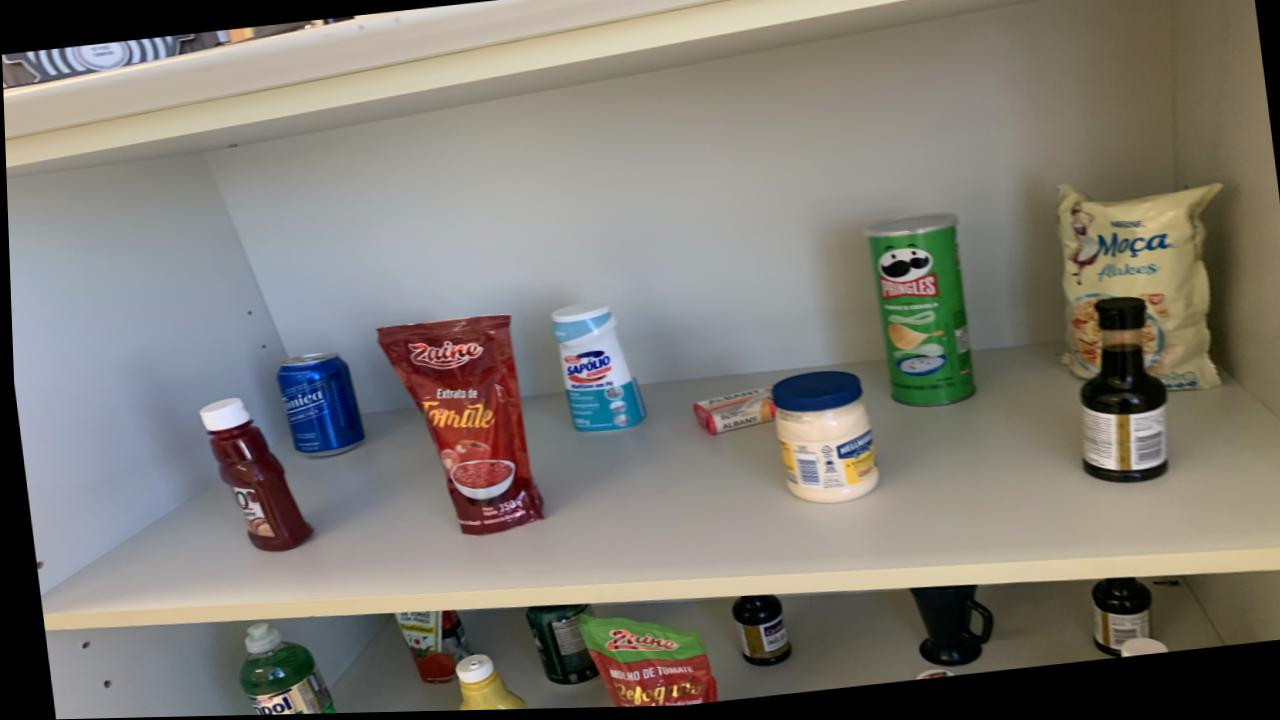Cleaner-Cleanup_Items: (549, 305, 643, 434)
Detergent-Cleanup_Items: (233, 624, 331, 716)
English_Sauce-Pantry_Items: (1076, 302, 1164, 488), (1087, 582, 1146, 661), (726, 598, 786, 670)
Flakes-Snacks: (1055, 189, 1219, 396)
Guarana_Can-Drinks: (520, 606, 593, 687)
Ketchup-Pantry_Items: (198, 399, 308, 553)
Mayonnaise-Pantry_Items: (767, 375, 875, 507)
Mustard-Pantry_Items: (449, 656, 522, 712)
Pringles-Snacks: (866, 218, 970, 411)
Soap-Cleanup_Items: (690, 389, 772, 437)
Tomato_Sauce-Pantry_Items: (374, 317, 540, 537), (572, 618, 712, 710), (390, 612, 465, 686)
Tonic-Drinks: (274, 354, 362, 458)
